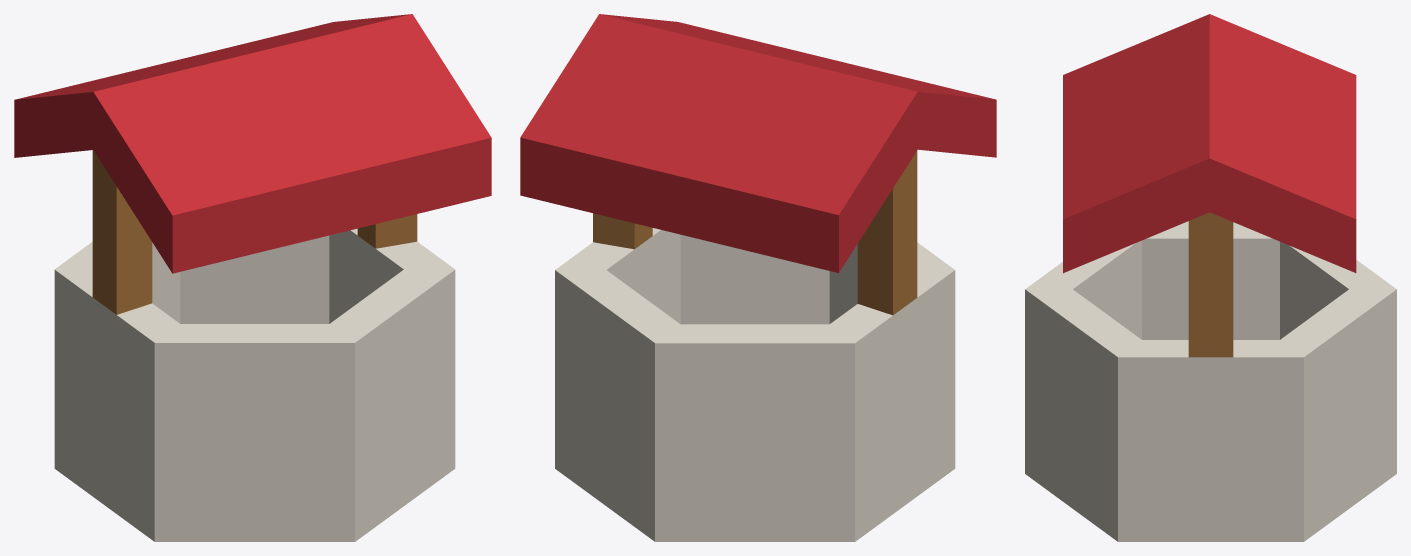
The model's file is well.glb.
3 views of the same model, side by side, from view 1: azimuth 30°, elevation 25°; view 2: azimuth 150°, elevation 25°; view 3: azimuth 270°, elevation 25° (orthographic). The views are drawn at different scales.
Visible parts, largest first — view 1: Well; view 2: Well; view 3: Well.
Boxes of the visible parts, bbox=[...] form: Well: bbox=[14, 14, 491, 541]; Well: bbox=[520, 14, 996, 541]; Well: bbox=[1025, 14, 1396, 541].
Bounding box in the file's own units: 0.5932 × 0.7404 × 0.6453.
